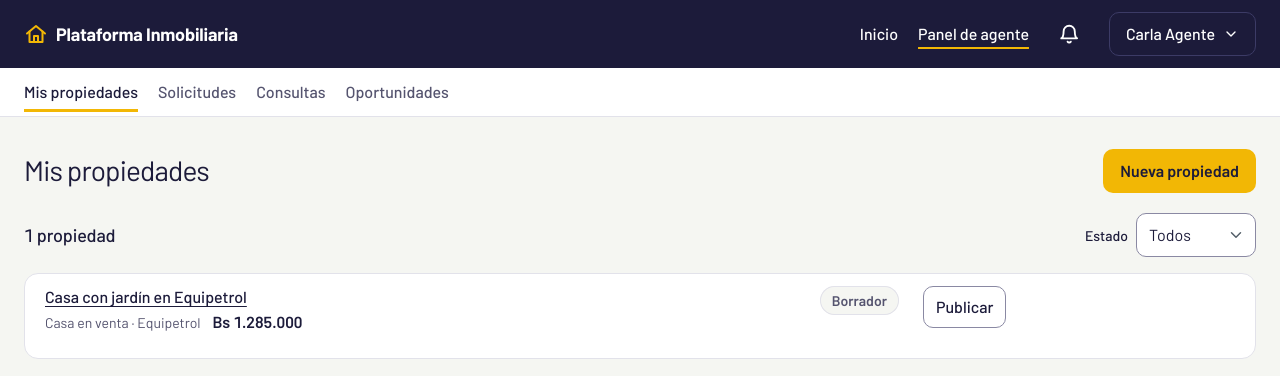
Test: AgentPropertiesPage › publishes a draft and fetches the list again
This screenshot has width=1280, height=376.
Click the button "Publicar" at (965, 307), box [923, 286, 1006, 328]
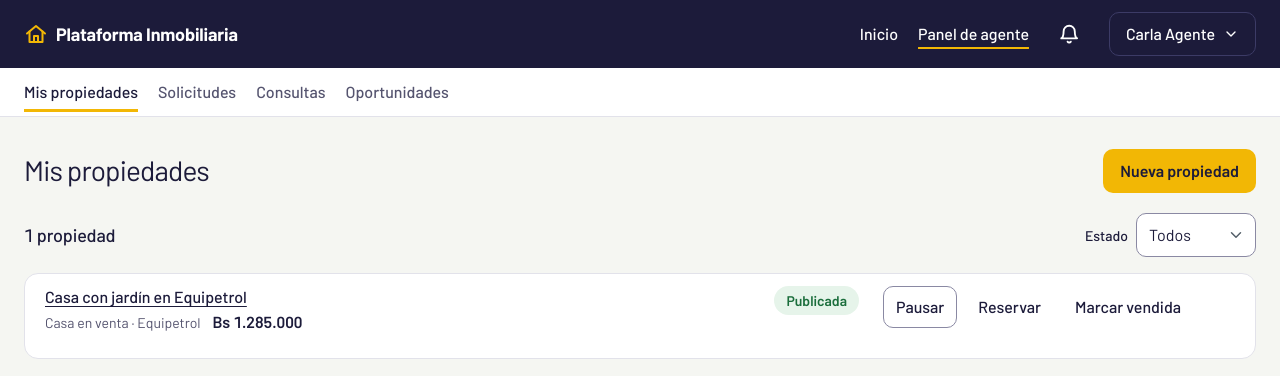
Now the text "Publicada" is shown, box [774, 286, 859, 315]
